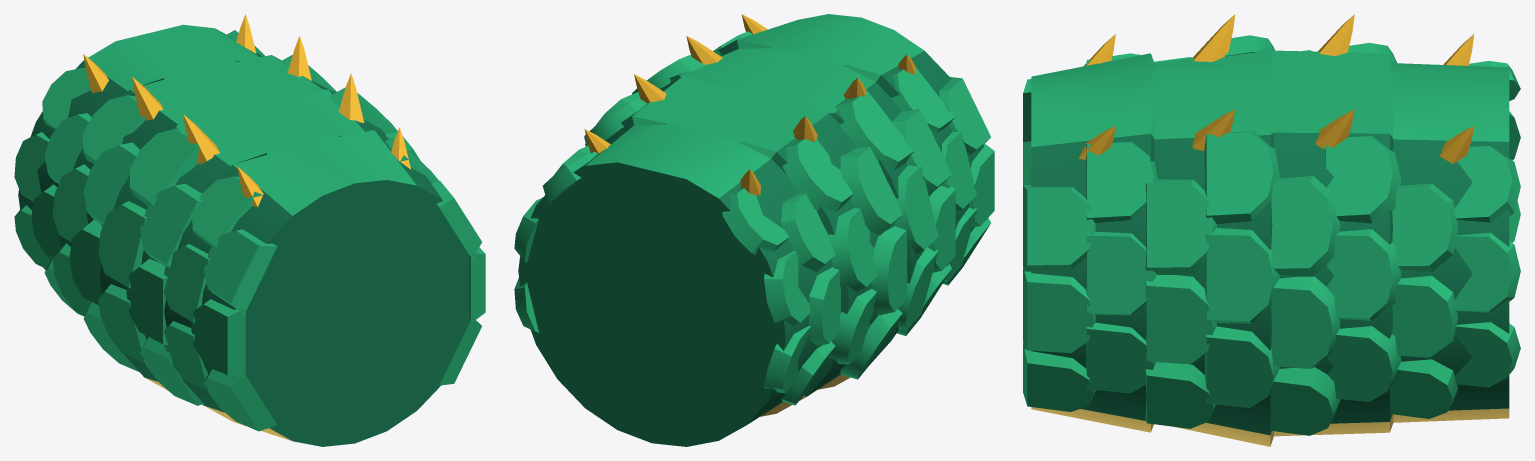
The model's file is dragon_body.glb.
3 renders of one model, left to right at view 1: azimuth 30°, elevation 25°; view 2: azimuth 150°, elevation 25°; view 3: azimuth 270°, elevation 25°, orthographic. The views are drawn at different scales.
Visible parts, largest first — view 1: dragon_body; view 2: dragon_body; view 3: dragon_body.
Boxes of the visible parts, left/top/right/bottom form: dragon_body: left=14, top=14, right=485, bottom=446; dragon_body: left=514, top=14, right=994, bottom=446; dragon_body: left=1023, top=14, right=1520, bottom=446.
Bounding box in the file's own units: 1.4 × 1.36 × 1.67.
